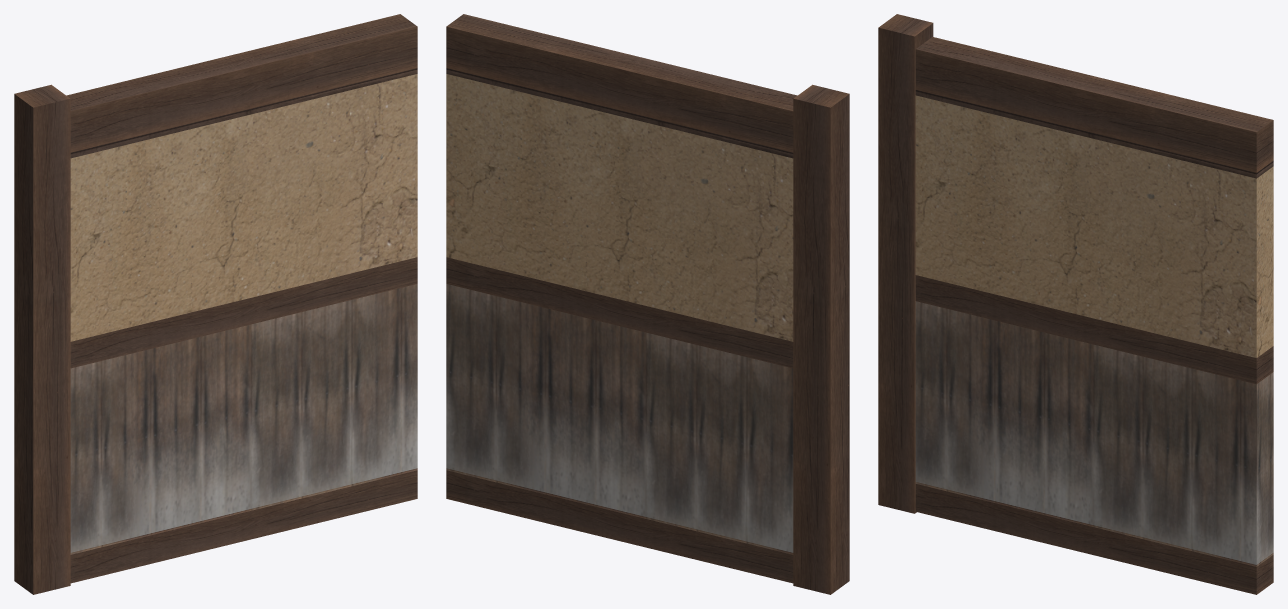
The model's file is fence10a_1t.fbx.
3 views of the same model, side by side, from view 1: azimuth 30°, elevation 25°; view 2: azimuth 150°, elevation 25°; view 3: azimuth 330°, elevation 25° (orthographic). The views are drawn at different scales.
Parts seen in each view (by area): view 1: fence10a_1t; view 2: fence10a_1t; view 3: fence10a_1t.
Part boxes in pixels (bbox=[...]): fence10a_1t: bbox=[14, 14, 417, 594]; fence10a_1t: bbox=[446, 14, 849, 594]; fence10a_1t: bbox=[878, 14, 1273, 594].
Size of the model in its own units: 220 by 266 by 18.84.
